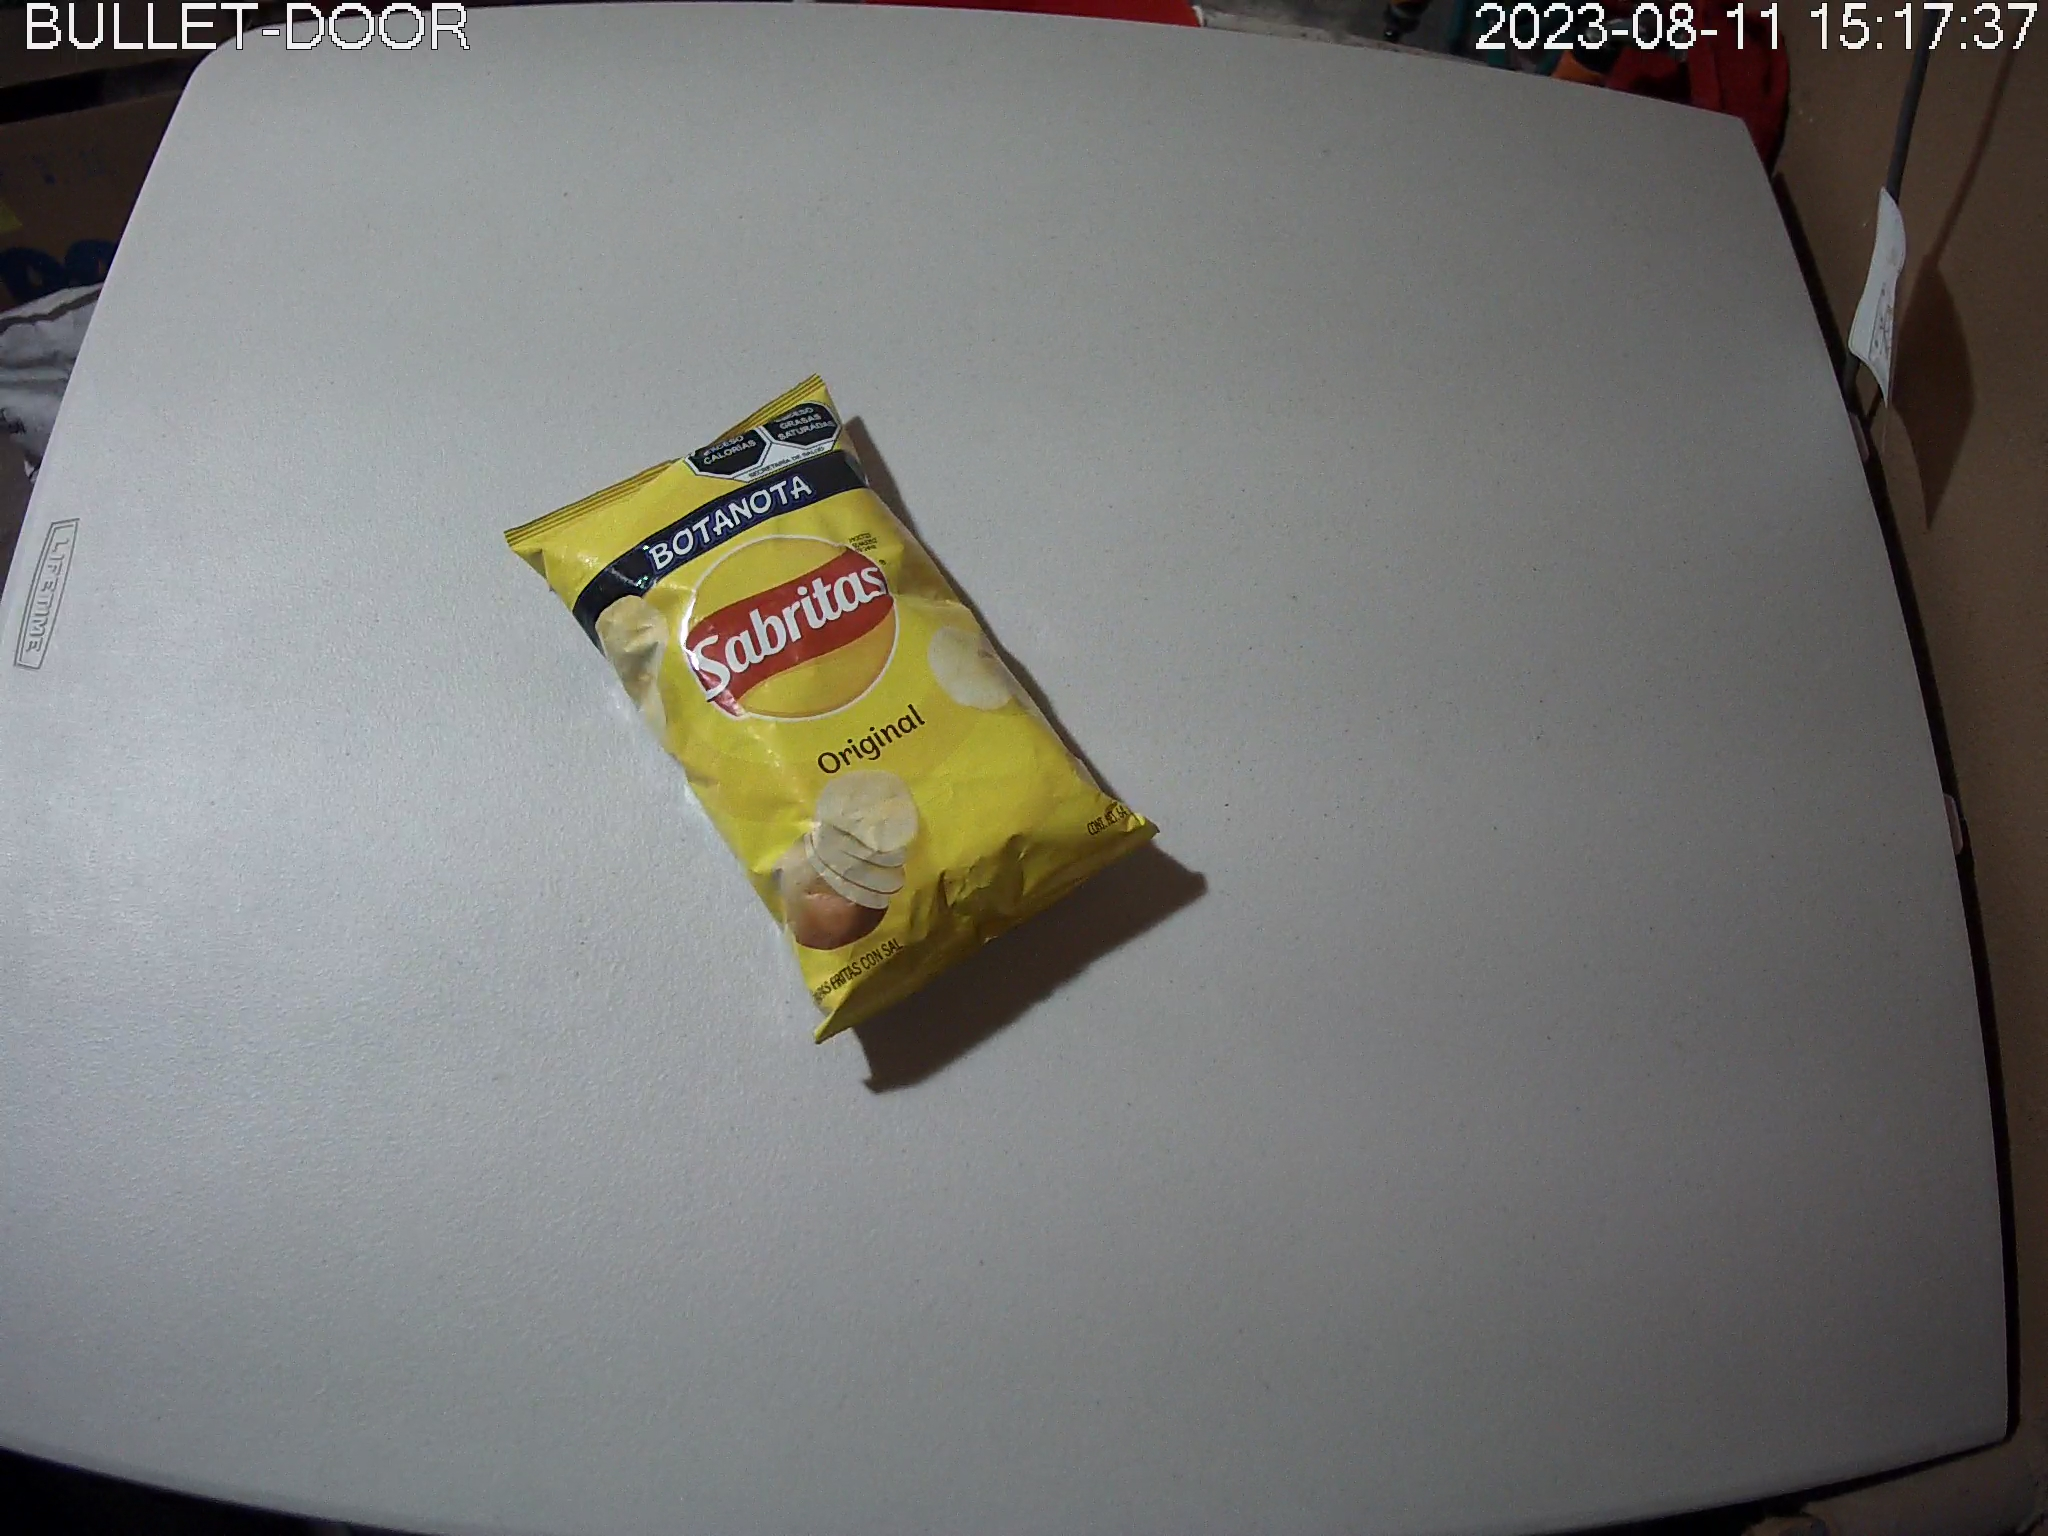Sabritas_64_F: (505, 374, 1163, 1042)
